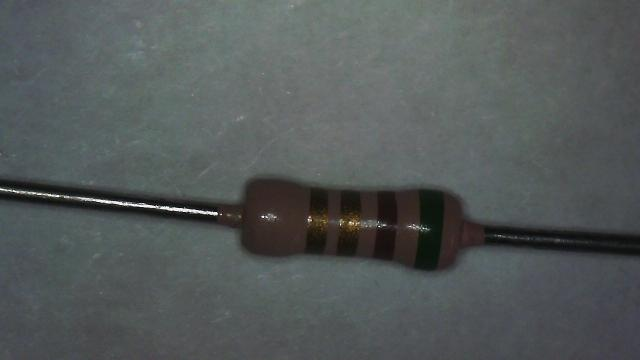brown: (376, 192, 397, 254)
gold: (307, 190, 328, 251), (339, 192, 359, 252)
green: (416, 188, 442, 268)
resistor: (219, 160, 473, 283)
